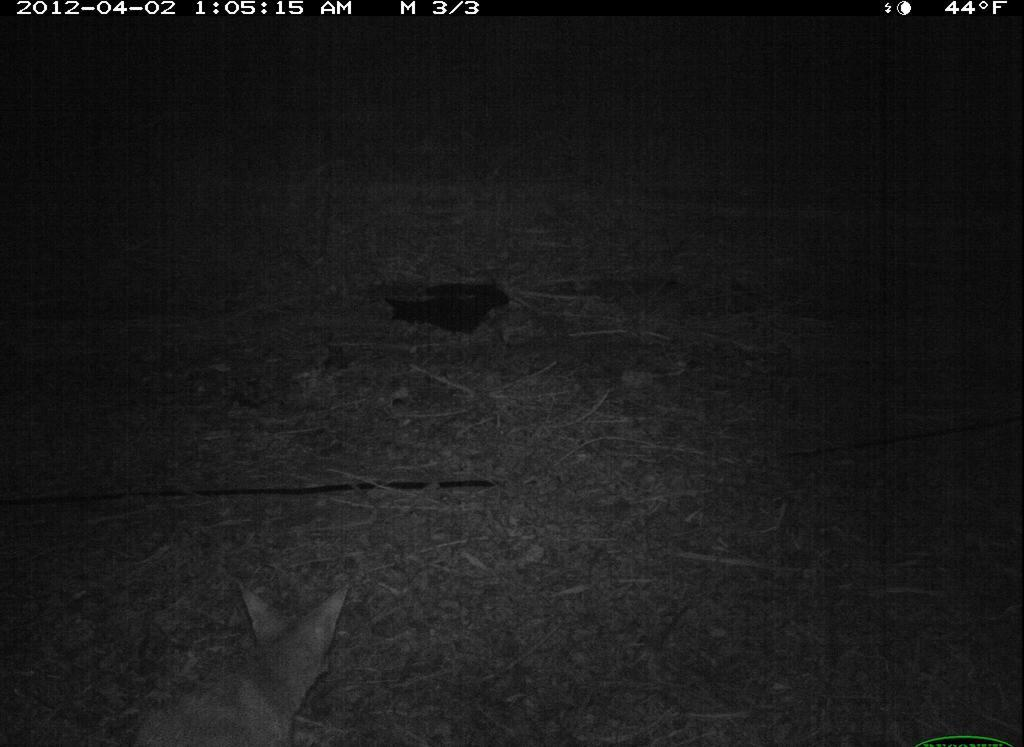coyote: (130, 580, 358, 740)
